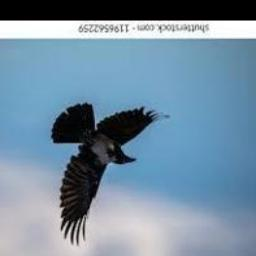Crow: (52, 104, 170, 246)
